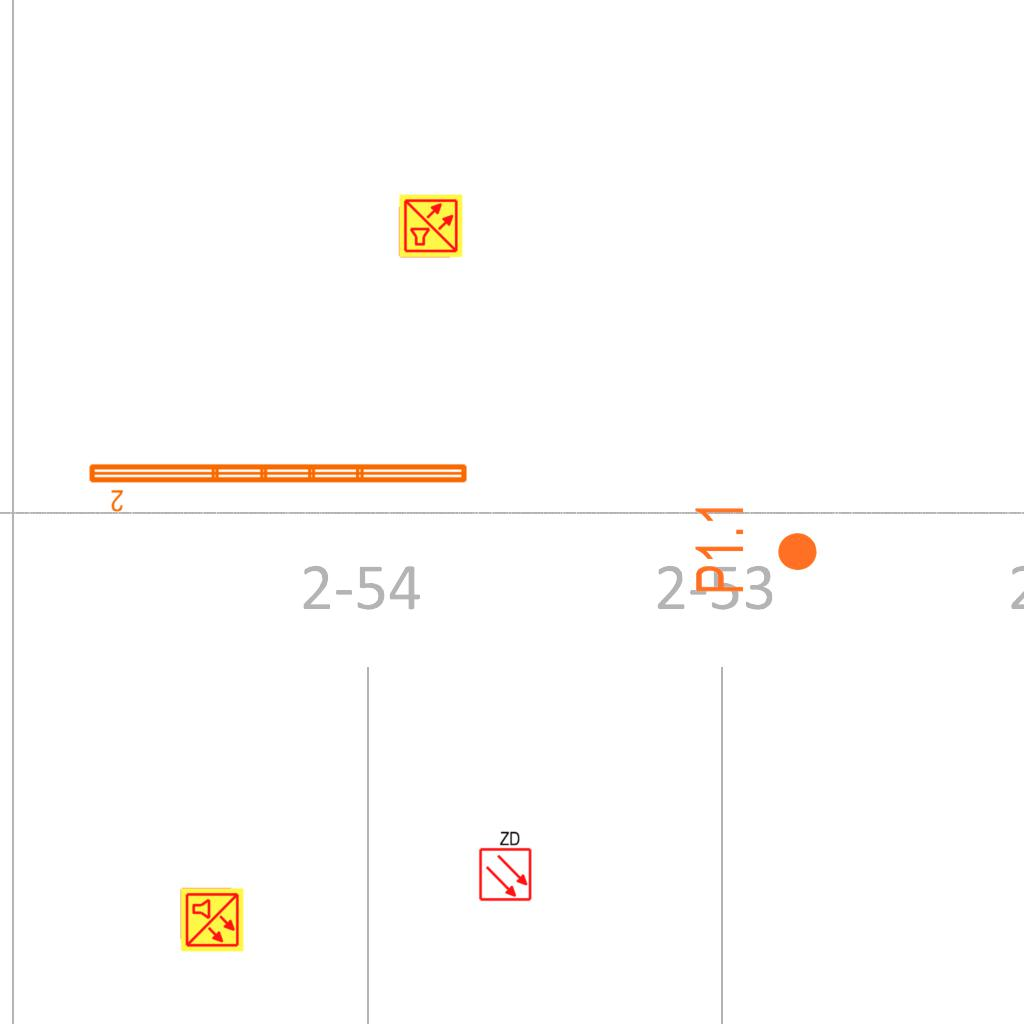Ambulanz_Pendelleuchte_LED: (85, 458, 472, 514)
Downlight_LED_Einbauleuchten_Flur: (692, 502, 820, 595)
OKW_Multisensormelder_(Kombination_optischer_Rauch-Kahlenmonoxid_Waerme-Melder): (398, 193, 464, 259), (179, 887, 245, 953)
ZD_Melder_in_Zwischendecke_mit_Revisionsoeffnung_mind_40_x_40_cm: (476, 828, 533, 902)
